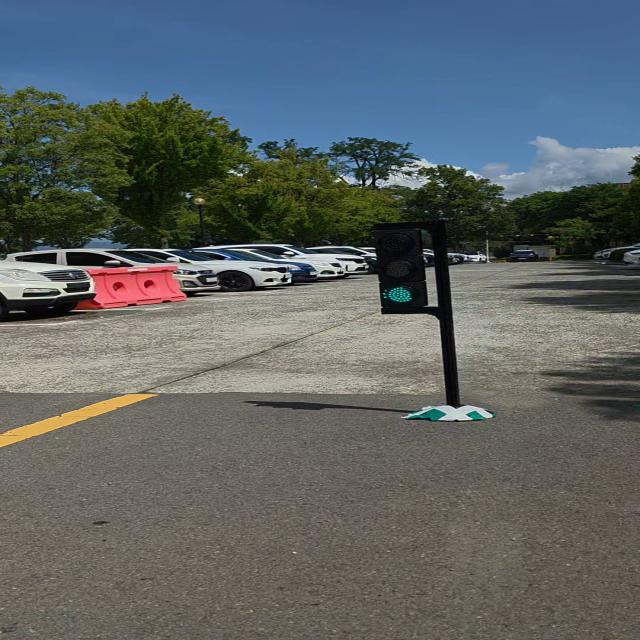green: (374, 226, 430, 311)
